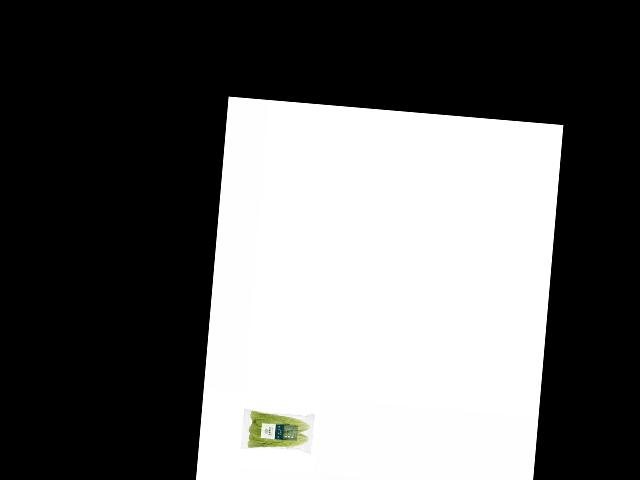lettuce: (245, 405, 311, 452)
